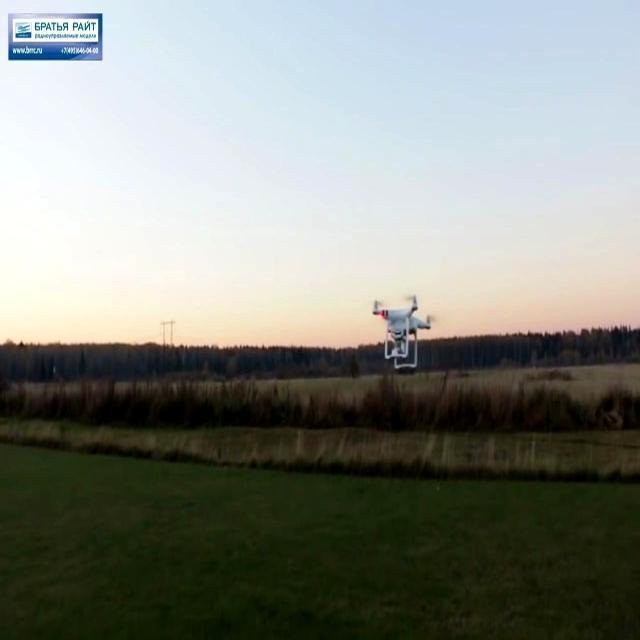drone: (371, 294, 432, 374)
